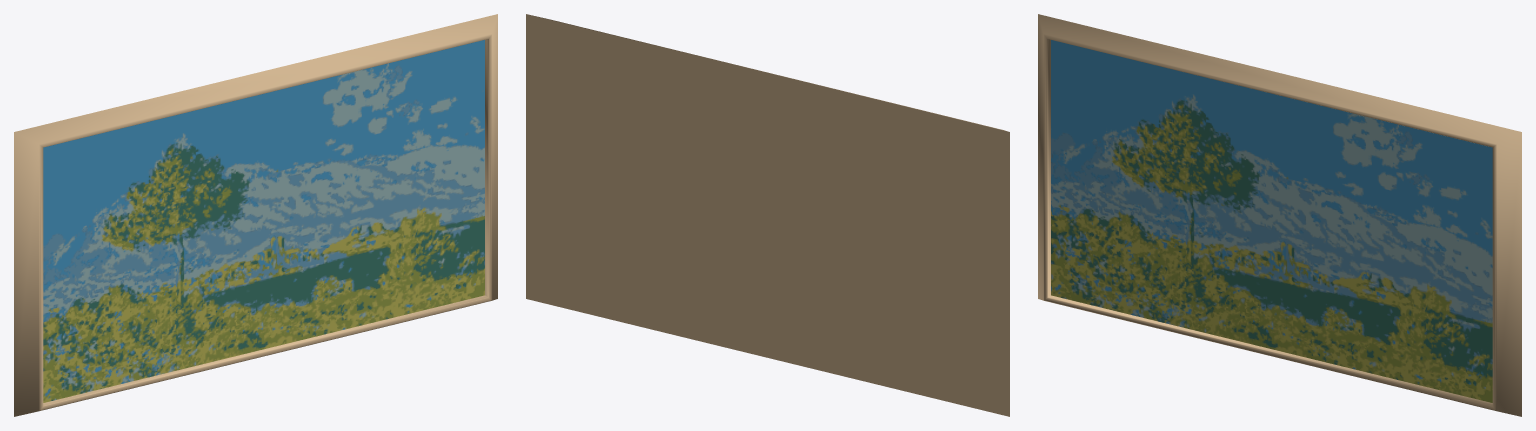
File: Chart-3.fbx
3 renders of one model, left to right at view 1: azimuth 30°, elevation 25°; view 2: azimuth 150°, elevation 25°; view 3: azimuth 330°, elevation 25°, orthographic.
Parts seen in each view (by area): view 1: Chart-3; view 2: Chart-3; view 3: Chart-3.
Boxes of the visible parts, x1,y1,x2,y2 form: Chart-3: (14, 14, 497, 416); Chart-3: (526, 14, 1009, 416); Chart-3: (1038, 14, 1521, 416).
Bounding box in the file's own units: 5.54 × 3.11 × 0.1985.
